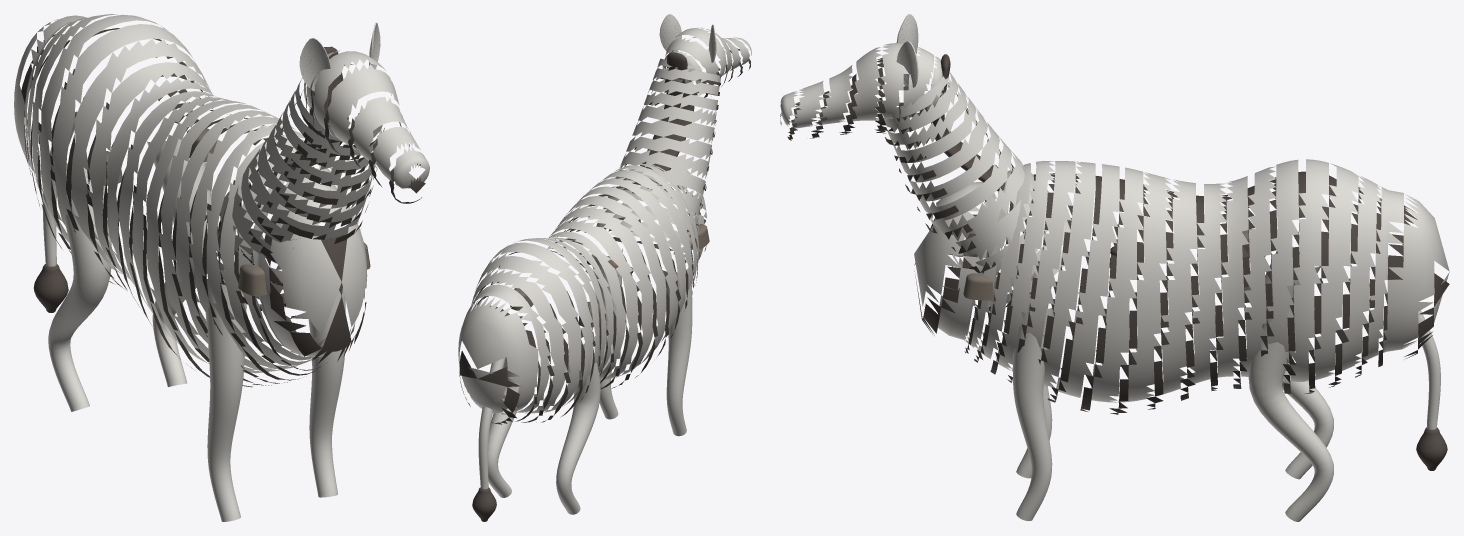
File: other-plains-zebra.glb
3 renders of one model, left to right at view 1: azimuth 30°, elevation 25°; view 2: azimuth 150°, elevation 25°; view 3: azimuth 270°, elevation 25°, orthographic. The views are drawn at different scales.
Visible parts, largest first — view 1: plains-zebra; view 2: plains-zebra; view 3: plains-zebra.
Boxes of the visible parts, x1,y1,x2,y2 form: plains-zebra: (14,14,429,521); plains-zebra: (458,14,751,521); plains-zebra: (780,14,1449,521).
Bounding box in the file's own units: 18226 × 59367 × 76409.
5 materials, 2 textured.
